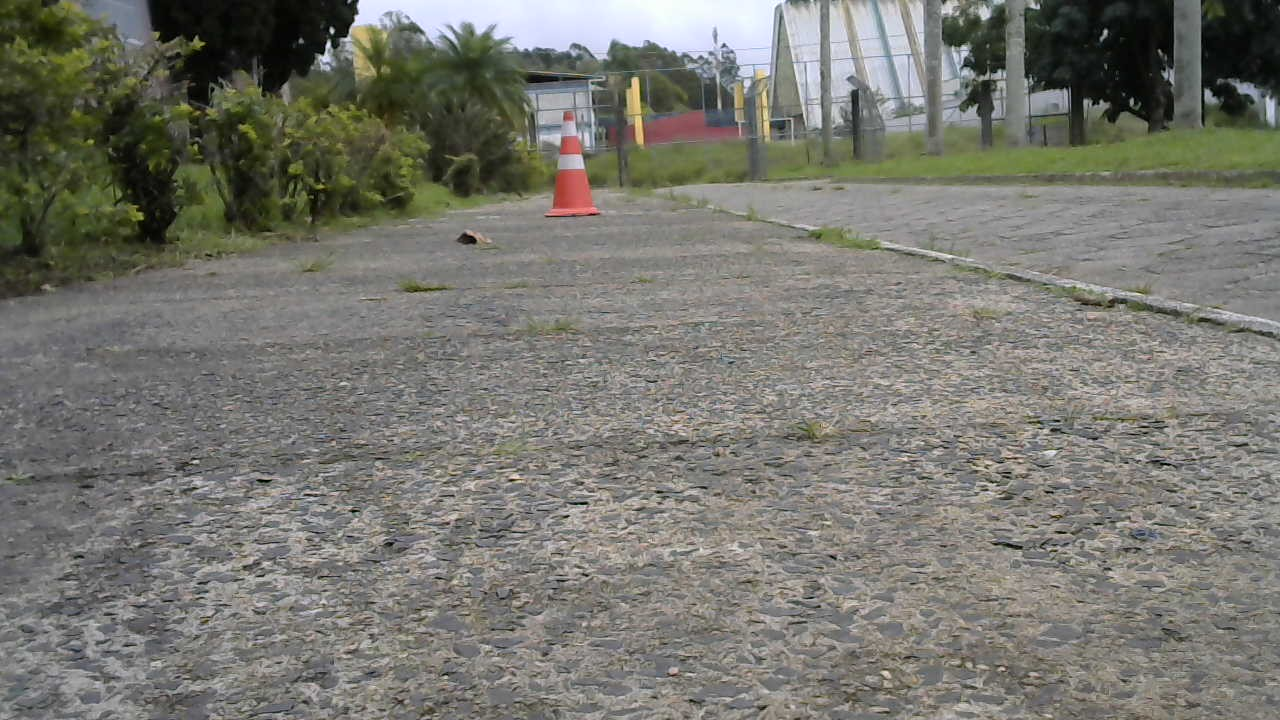cone: (546, 107, 606, 220)
